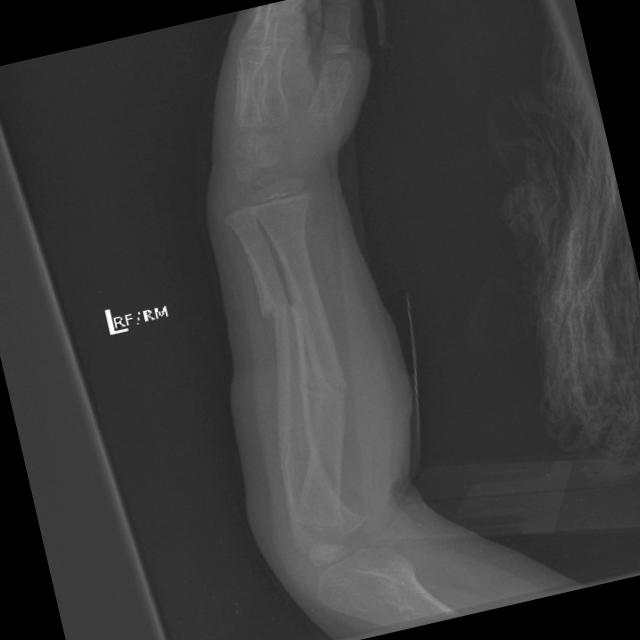forearm fracture: (233, 249, 331, 380), (285, 351, 369, 442)
